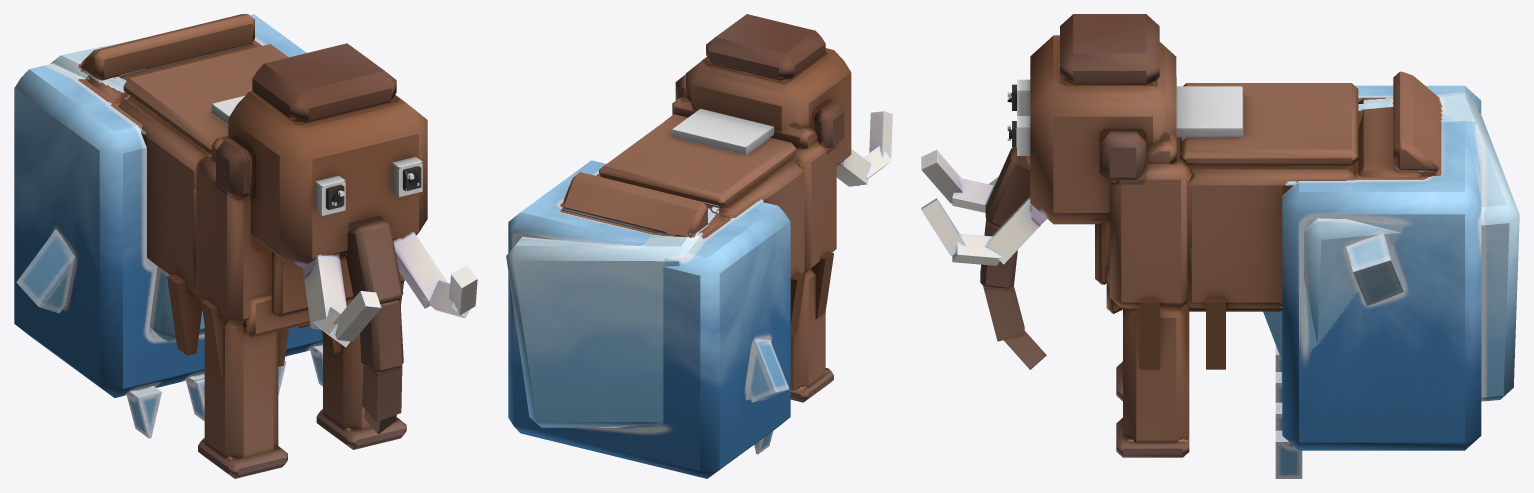
The model's file is MammouthGlacon_Rig.fbx.
The picture shows the model from 3 angles, left to right: view 1: azimuth 30°, elevation 25°; view 2: azimuth 150°, elevation 25°; view 3: azimuth 270°, elevation 25°; orthographic projection. The views are drawn at different scales.
Parts seen in each view (by area): view 1: Body, Head, LegFR, Trunk, LegFL, EarR; view 2: Body, Head, LegFR, EarR; view 3: Body, Head, LegFL, Trunk, EarL.
Part boxes in pixels (x1,y1,x2,y2): Body: [14, 14, 404, 438]; Head: [228, 43, 477, 347]; LegFR: [198, 320, 287, 478]; Trunk: [345, 220, 403, 434]; LegFL: [316, 334, 406, 449]; EarR: [216, 138, 252, 199]; Body: [506, 97, 836, 478]; Head: [686, 14, 892, 186]; LegFR: [790, 269, 833, 402]; EarR: [814, 101, 844, 148]; Body: [1095, 71, 1519, 478]; Head: [921, 14, 1176, 265]; LegFL: [1116, 303, 1189, 457]; Trunk: [980, 147, 1046, 369]; EarL: [1100, 131, 1146, 182].
Size of the model in its own units: 4.88 by 6 by 8.14.
1 material, 1 textured.
